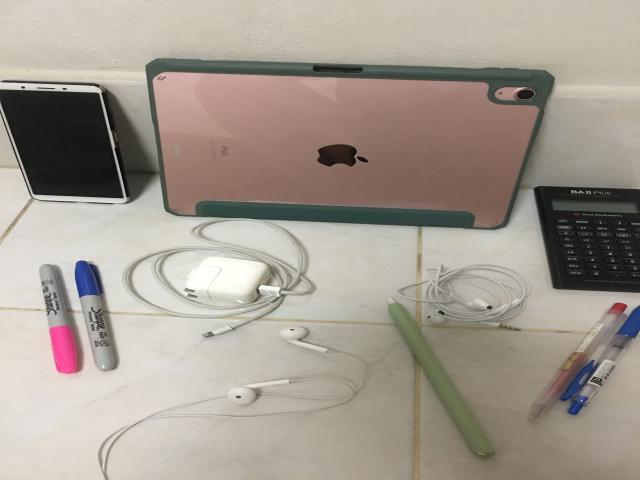Mobile phone: (0, 81, 130, 203)
Pen: (528, 303, 640, 421), (75, 261, 115, 371), (40, 264, 77, 374)
wire: (98, 327, 365, 480), (122, 218, 313, 337), (397, 264, 530, 331)
